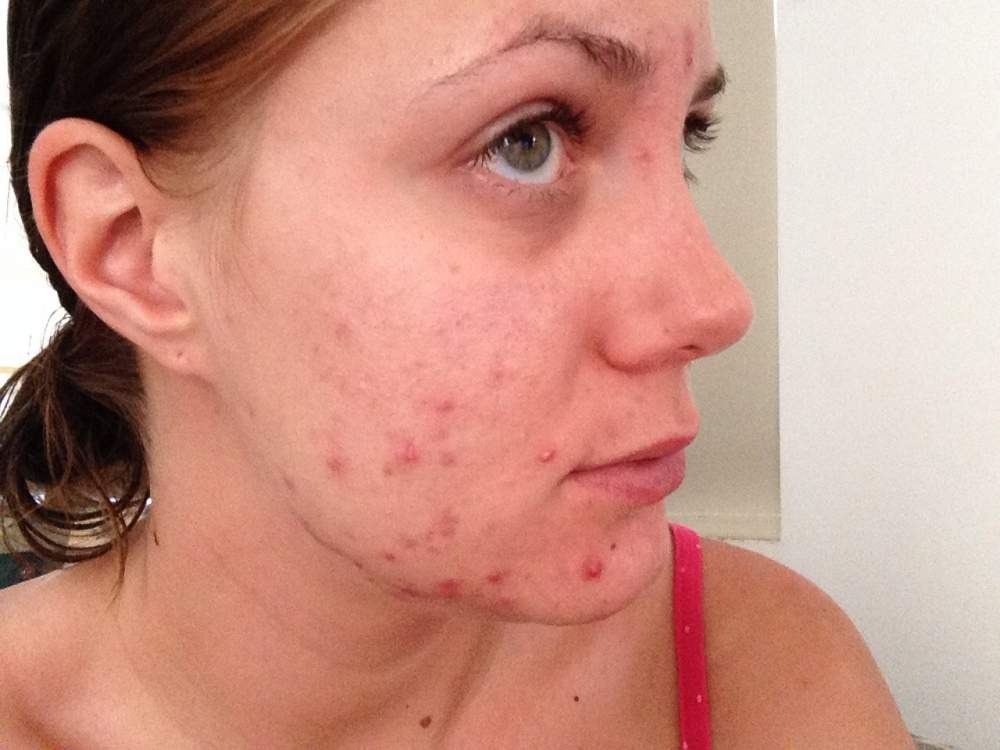Acne: (281, 285, 627, 630)
